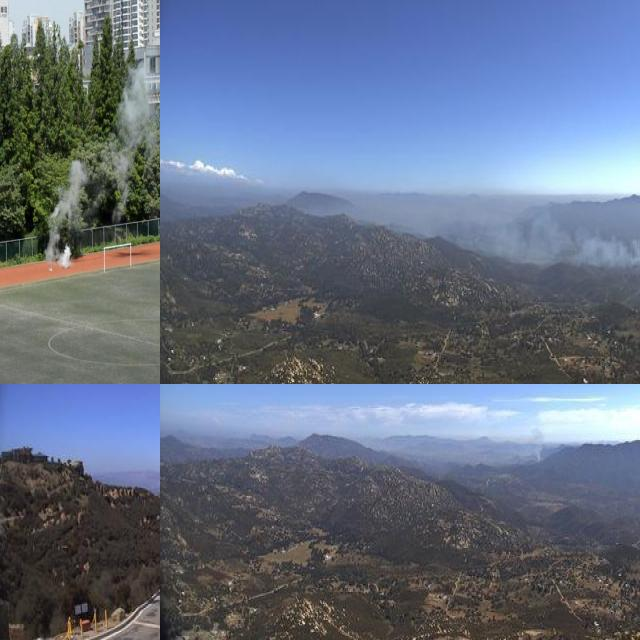smoke: (408, 188, 640, 274), (112, 69, 156, 199), (43, 158, 88, 267), (489, 416, 546, 467)
